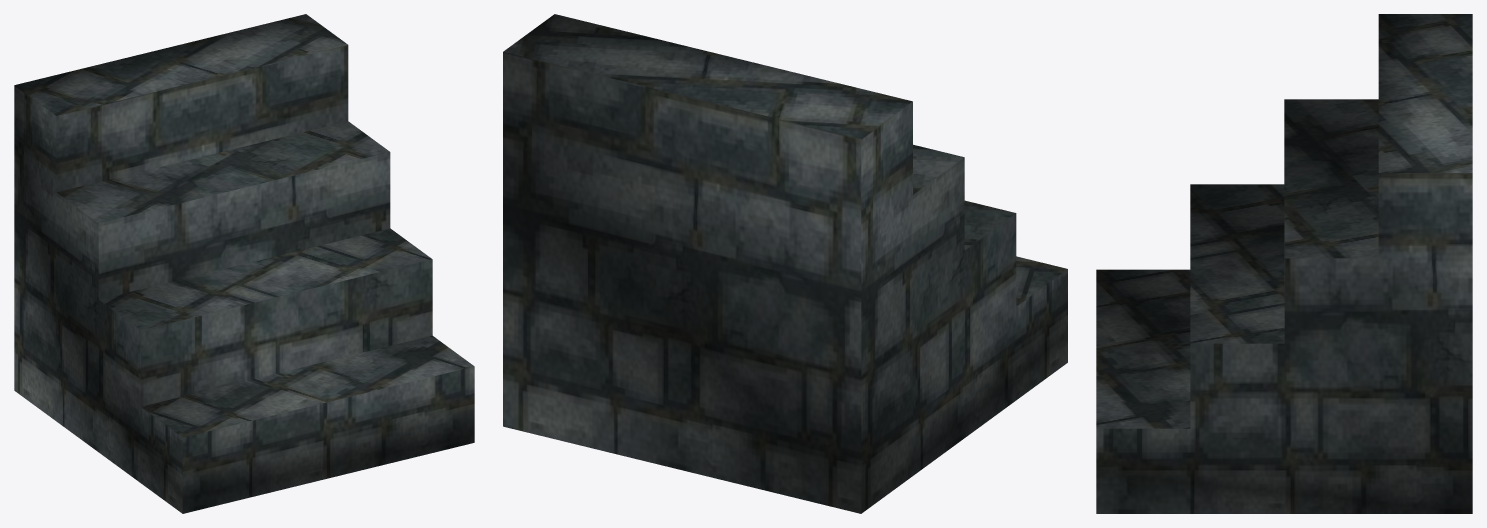
Rendered from dark stone stairs small.glb.
The picture shows the model from 3 angles, left to right: view 1: azimuth 30°, elevation 25°; view 2: azimuth 150°, elevation 25°; view 3: azimuth 270°, elevation 25°; orthographic projection. The views are drawn at different scales.
Visible parts, largest first — view 1: Steps, 3'; view 2: Steps, 3'; view 3: Steps, 3'.
Part boxes in pixels (x1,y1,x2,y2): Steps, 3': [14, 14, 474, 513]; Steps, 3': [503, 14, 1067, 513]; Steps, 3': [1096, 14, 1472, 513].
Bounding box in the file's own units: 0.9144 × 0.9144 × 0.9144.
Materials: 1 (1 with a texture image).
